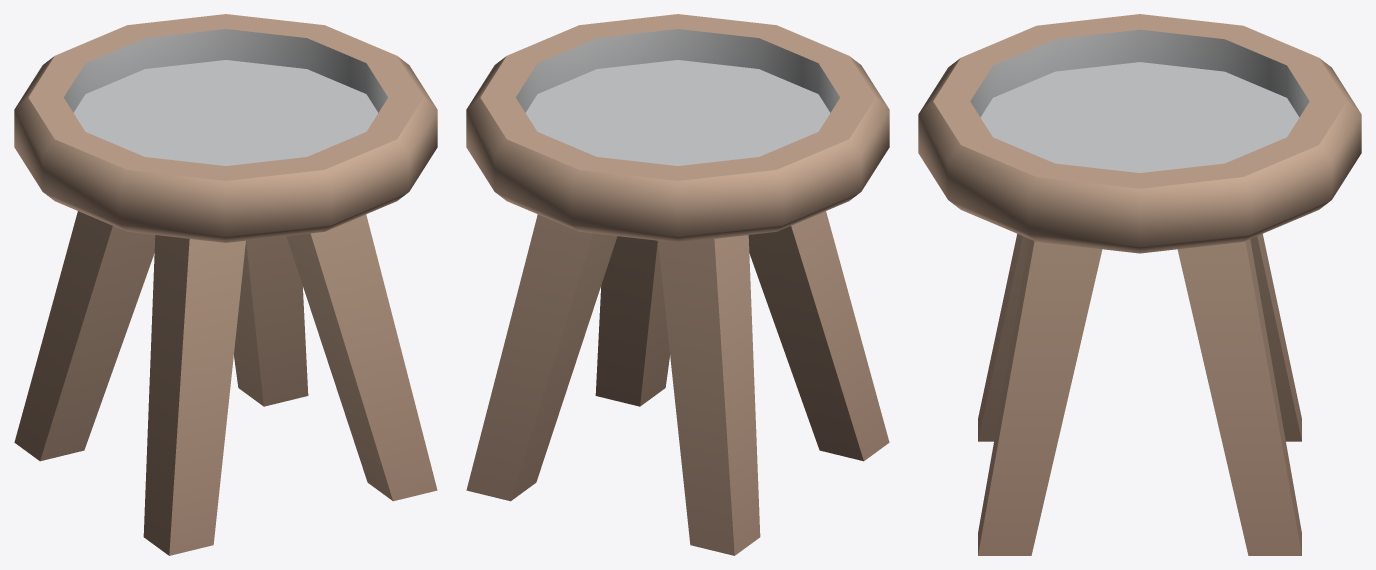
The model's file is table-side-round.glb.
3 views of the same model, side by side, from view 1: azimuth 30°, elevation 25°; view 2: azimuth 150°, elevation 25°; view 3: azimuth 270°, elevation 25° (orthographic). The views are drawn at different scales.
Parts seen in each view (by area): view 1: table-side-round; view 2: table-side-round; view 3: table-side-round.
Boxes of the visible parts, left/top/right/bottom form: table-side-round: left=14, top=14, right=437, bottom=555; table-side-round: left=466, top=14, right=889, bottom=555; table-side-round: left=918, top=14, right=1361, bottom=555.
Size of the model in its own units: 0.31 by 0.298 by 0.31.
